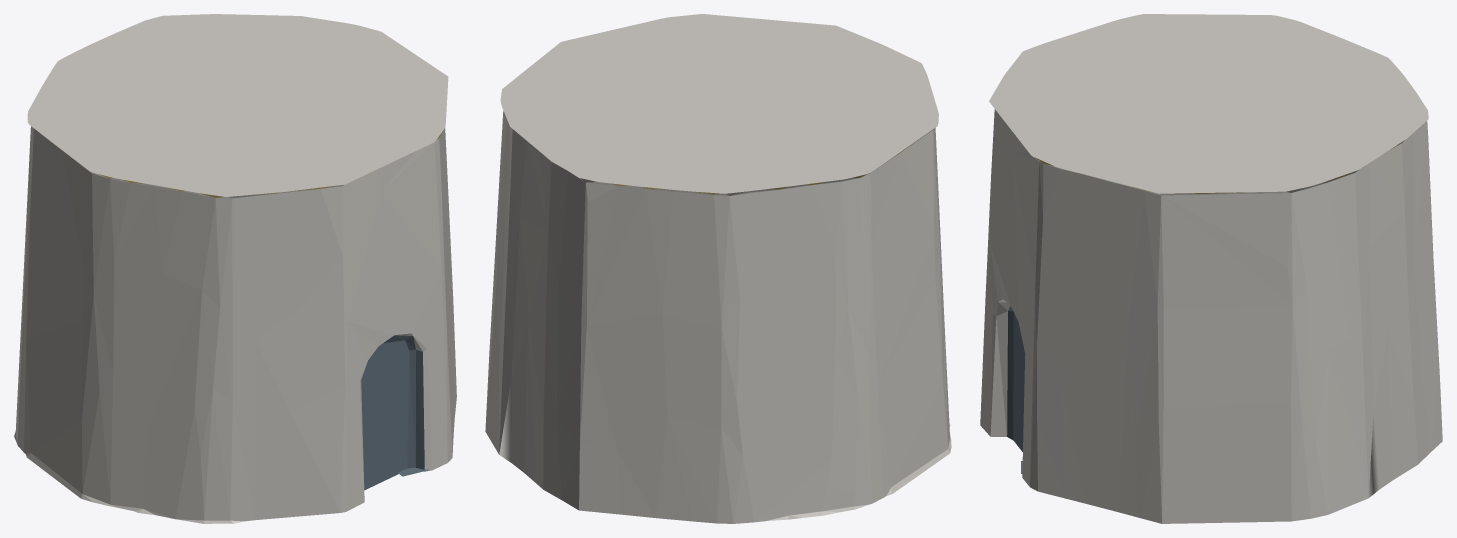
The model's file is etape-1.glb.
The picture shows the model from 3 angles, left to right: view 1: azimuth 30°, elevation 25°; view 2: azimuth 150°, elevation 25°; view 3: azimuth 270°, elevation 25°; orthographic projection.
Parts seen in each view (by area): view 1: geometry_0; view 2: geometry_0; view 3: geometry_0.
Part boxes in pixels (<box>): geometry_0: <box>14,14,456,523</box>; geometry_0: <box>485,14,951,523</box>; geometry_0: <box>980,14,1442,523</box>.
Bounding box in the file's own units: 0.6443 × 0.5151 × 0.6635.
